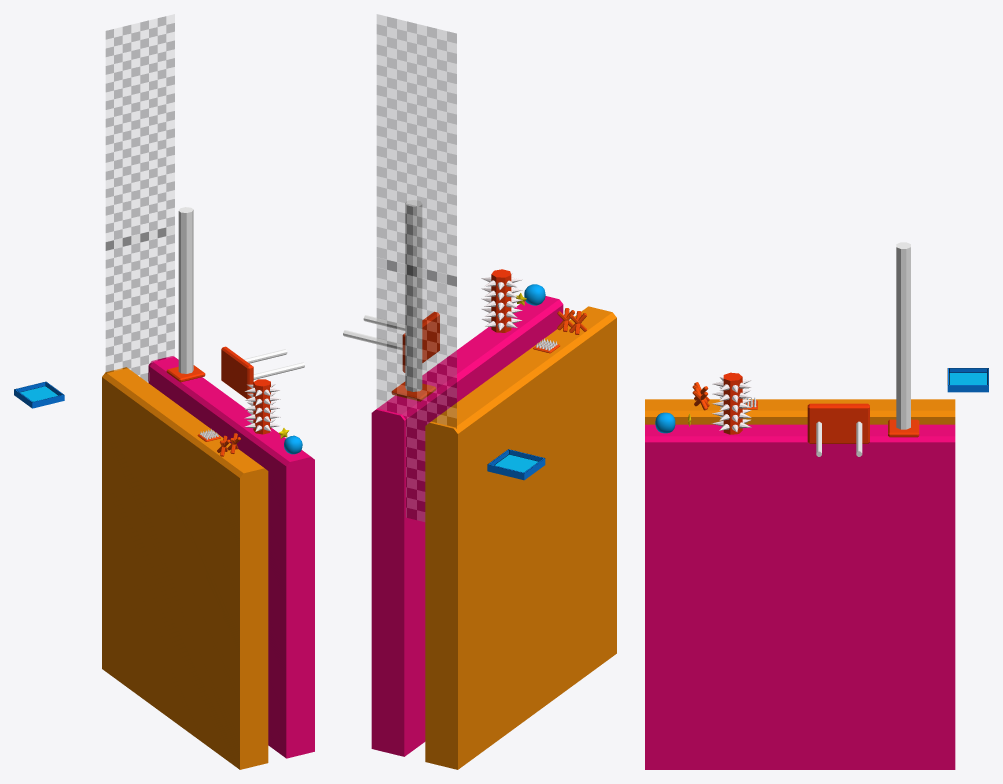
File: ballschangerMover.fbx
3 views of the same model, side by side, from view 1: azimuth 30°, elevation 25°; view 2: azimuth 150°, elevation 25°; view 3: azimuth 270°, elevation 25° (orthographic). The views are drawn at different scales.
Parts seen in each view (by area): view 1: Куб.002, Плоскость, Куб.001, Куб.003, Куб, Цилиндр, Куб.013; view 2: Куб.002, Плоскость, Куб.001, Куб.003, Цилиндр, Куб, Куб.013, Куб.004; view 3: Куб.001, Куб.002, Куб.003, Куб, Цилиндр, Куб.013.
Part boxes in pixels (x1,y1,x2,y2): Куб.002: (102, 367, 268, 769); Плоскость: (105, 14, 174, 383); Куб.001: (148, 356, 314, 758); Куб.003: (166, 207, 205, 382); Куб: (221, 346, 304, 399); Цилиндр: (244, 379, 280, 434); Куб.013: (14, 381, 64, 408); Куб.002: (425, 306, 616, 769); Плоскость: (376, 14, 456, 521); Куб.001: (371, 296, 563, 756); Куб.003: (391, 200, 436, 401); Цилиндр: (481, 269, 522, 332); Куб: (343, 311, 439, 372); Куб.013: (487, 449, 545, 480); Куб.004: (557, 308, 586, 334); Куб.001: (645, 424, 955, 769); Куб.002: (645, 399, 955, 424); Куб.003: (888, 242, 919, 437); Куб: (807, 403, 869, 456); Цилиндр: (712, 372, 751, 434); Куб.013: (947, 368, 988, 392).
Bounding box in the file's own units: 2765 × 7881 × 3427.
